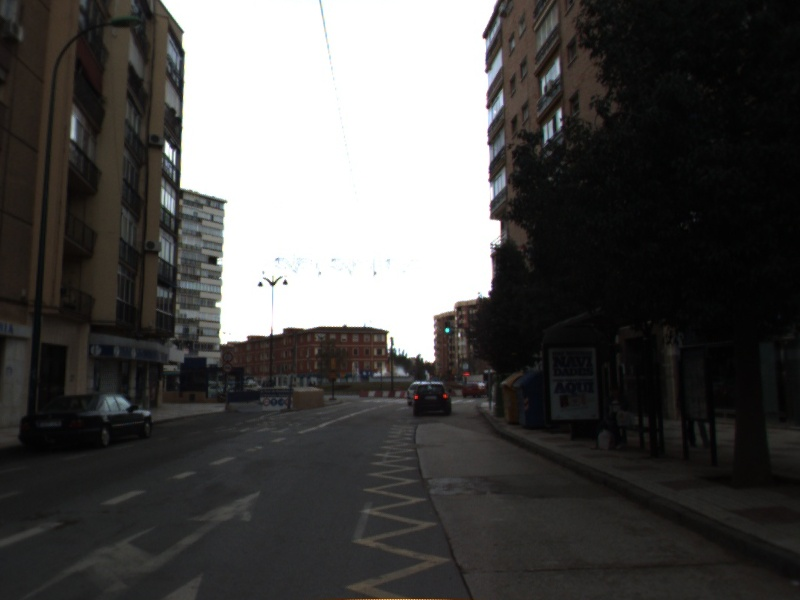STRAIGHT_LEFT: (19, 488, 262, 600)
